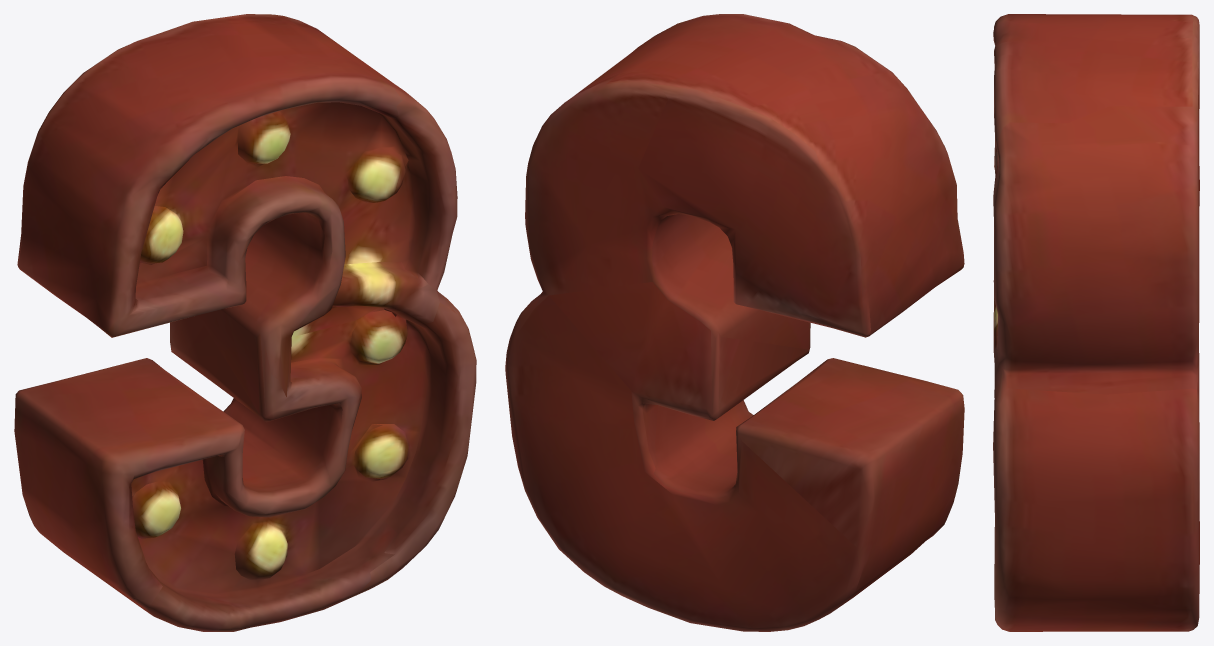
The model's file is digit_3_idle.glb.
3 renders of one model, left to right at view 1: azimuth 30°, elevation 25°; view 2: azimuth 150°, elevation 25°; view 3: azimuth 270°, elevation 25°, orthographic. The views are drawn at different scales.
Parts seen in each view (by area): view 1: tmp_letters_u_z_0_3_07; view 2: tmp_letters_u_z_0_3_07; view 3: tmp_letters_u_z_0_3_07.
Part boxes in pixels (<box>): tmp_letters_u_z_0_3_07: <box>14,14,476,631</box>; tmp_letters_u_z_0_3_07: <box>505,14,964,631</box>; tmp_letters_u_z_0_3_07: <box>993,14,1199,631</box>.
Size of the model in its own units: 0.7142 by 0.9869 by 0.3317.
Materials: 1 (1 with a texture image).
